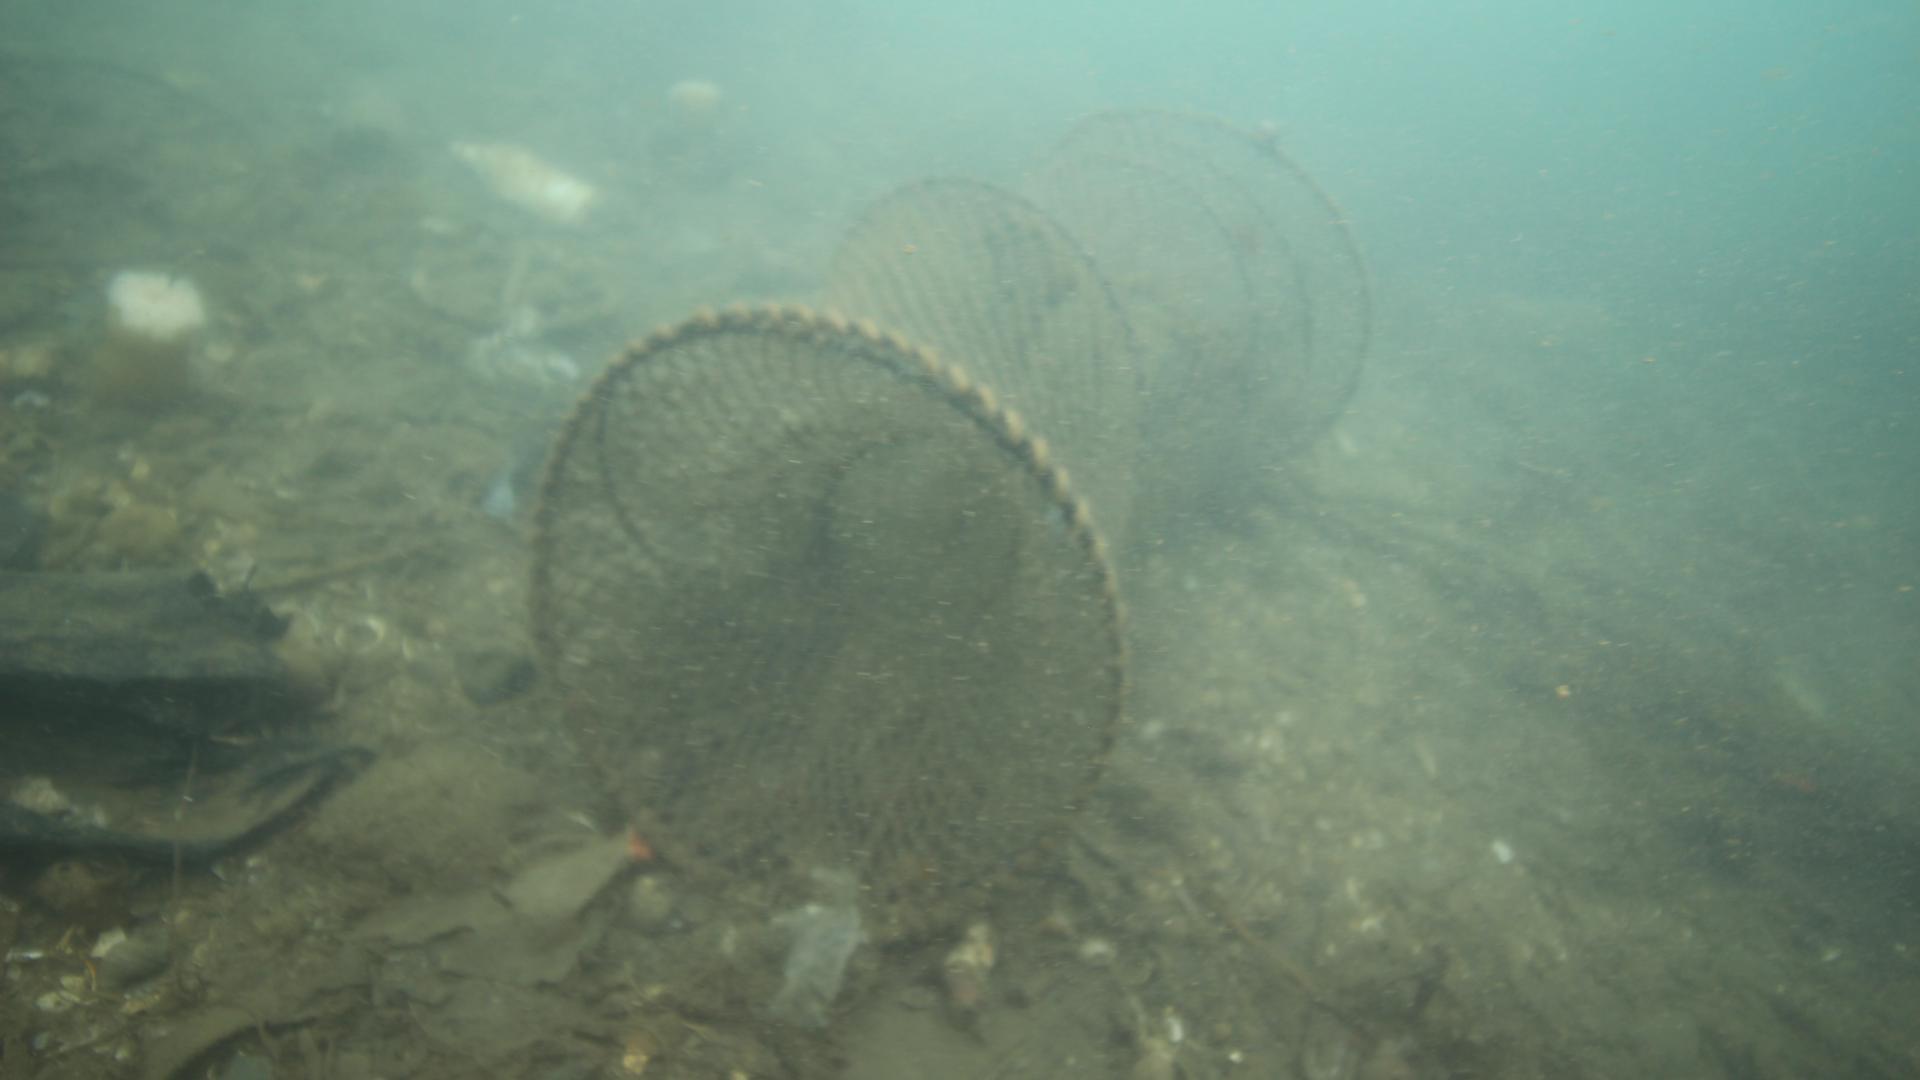spring fish trap: (527, 105, 1378, 943)
